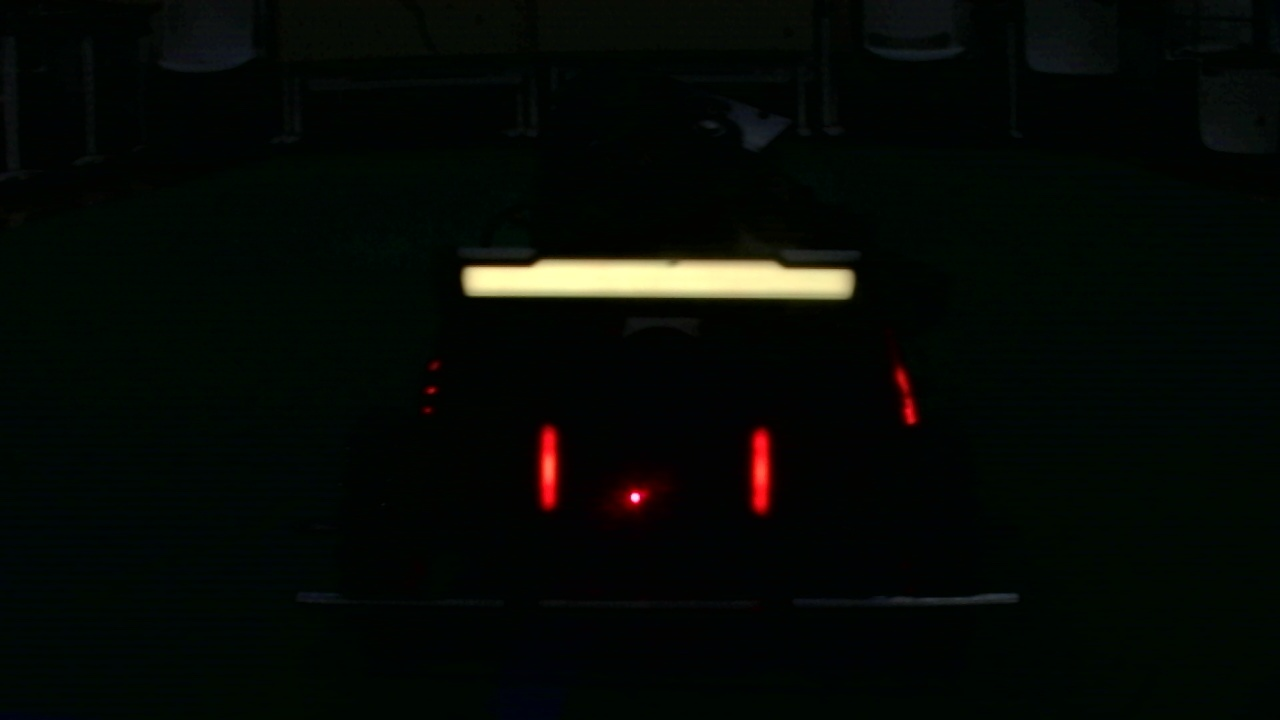lamp: (536, 424, 559, 513), (749, 428, 772, 515)
pair1: (537, 426, 766, 515)
